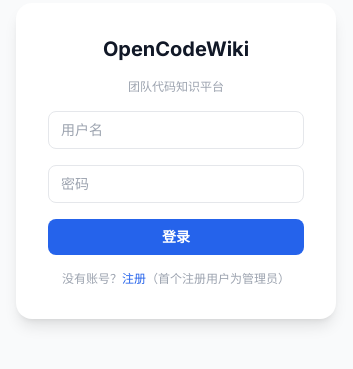
LoginPage › should show error on empty submit
What coordinates should you click on to do the following:
click the button "登录"
I would click on:
 (176, 237)
Its box is [48,219,304,255].
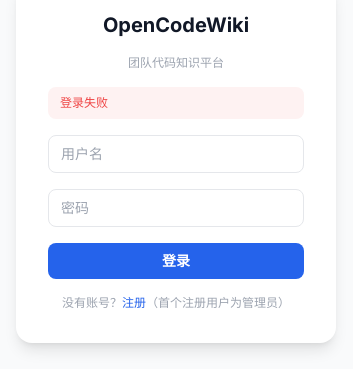
Now the text "登录失败" is shown, box [48,87,304,119]
